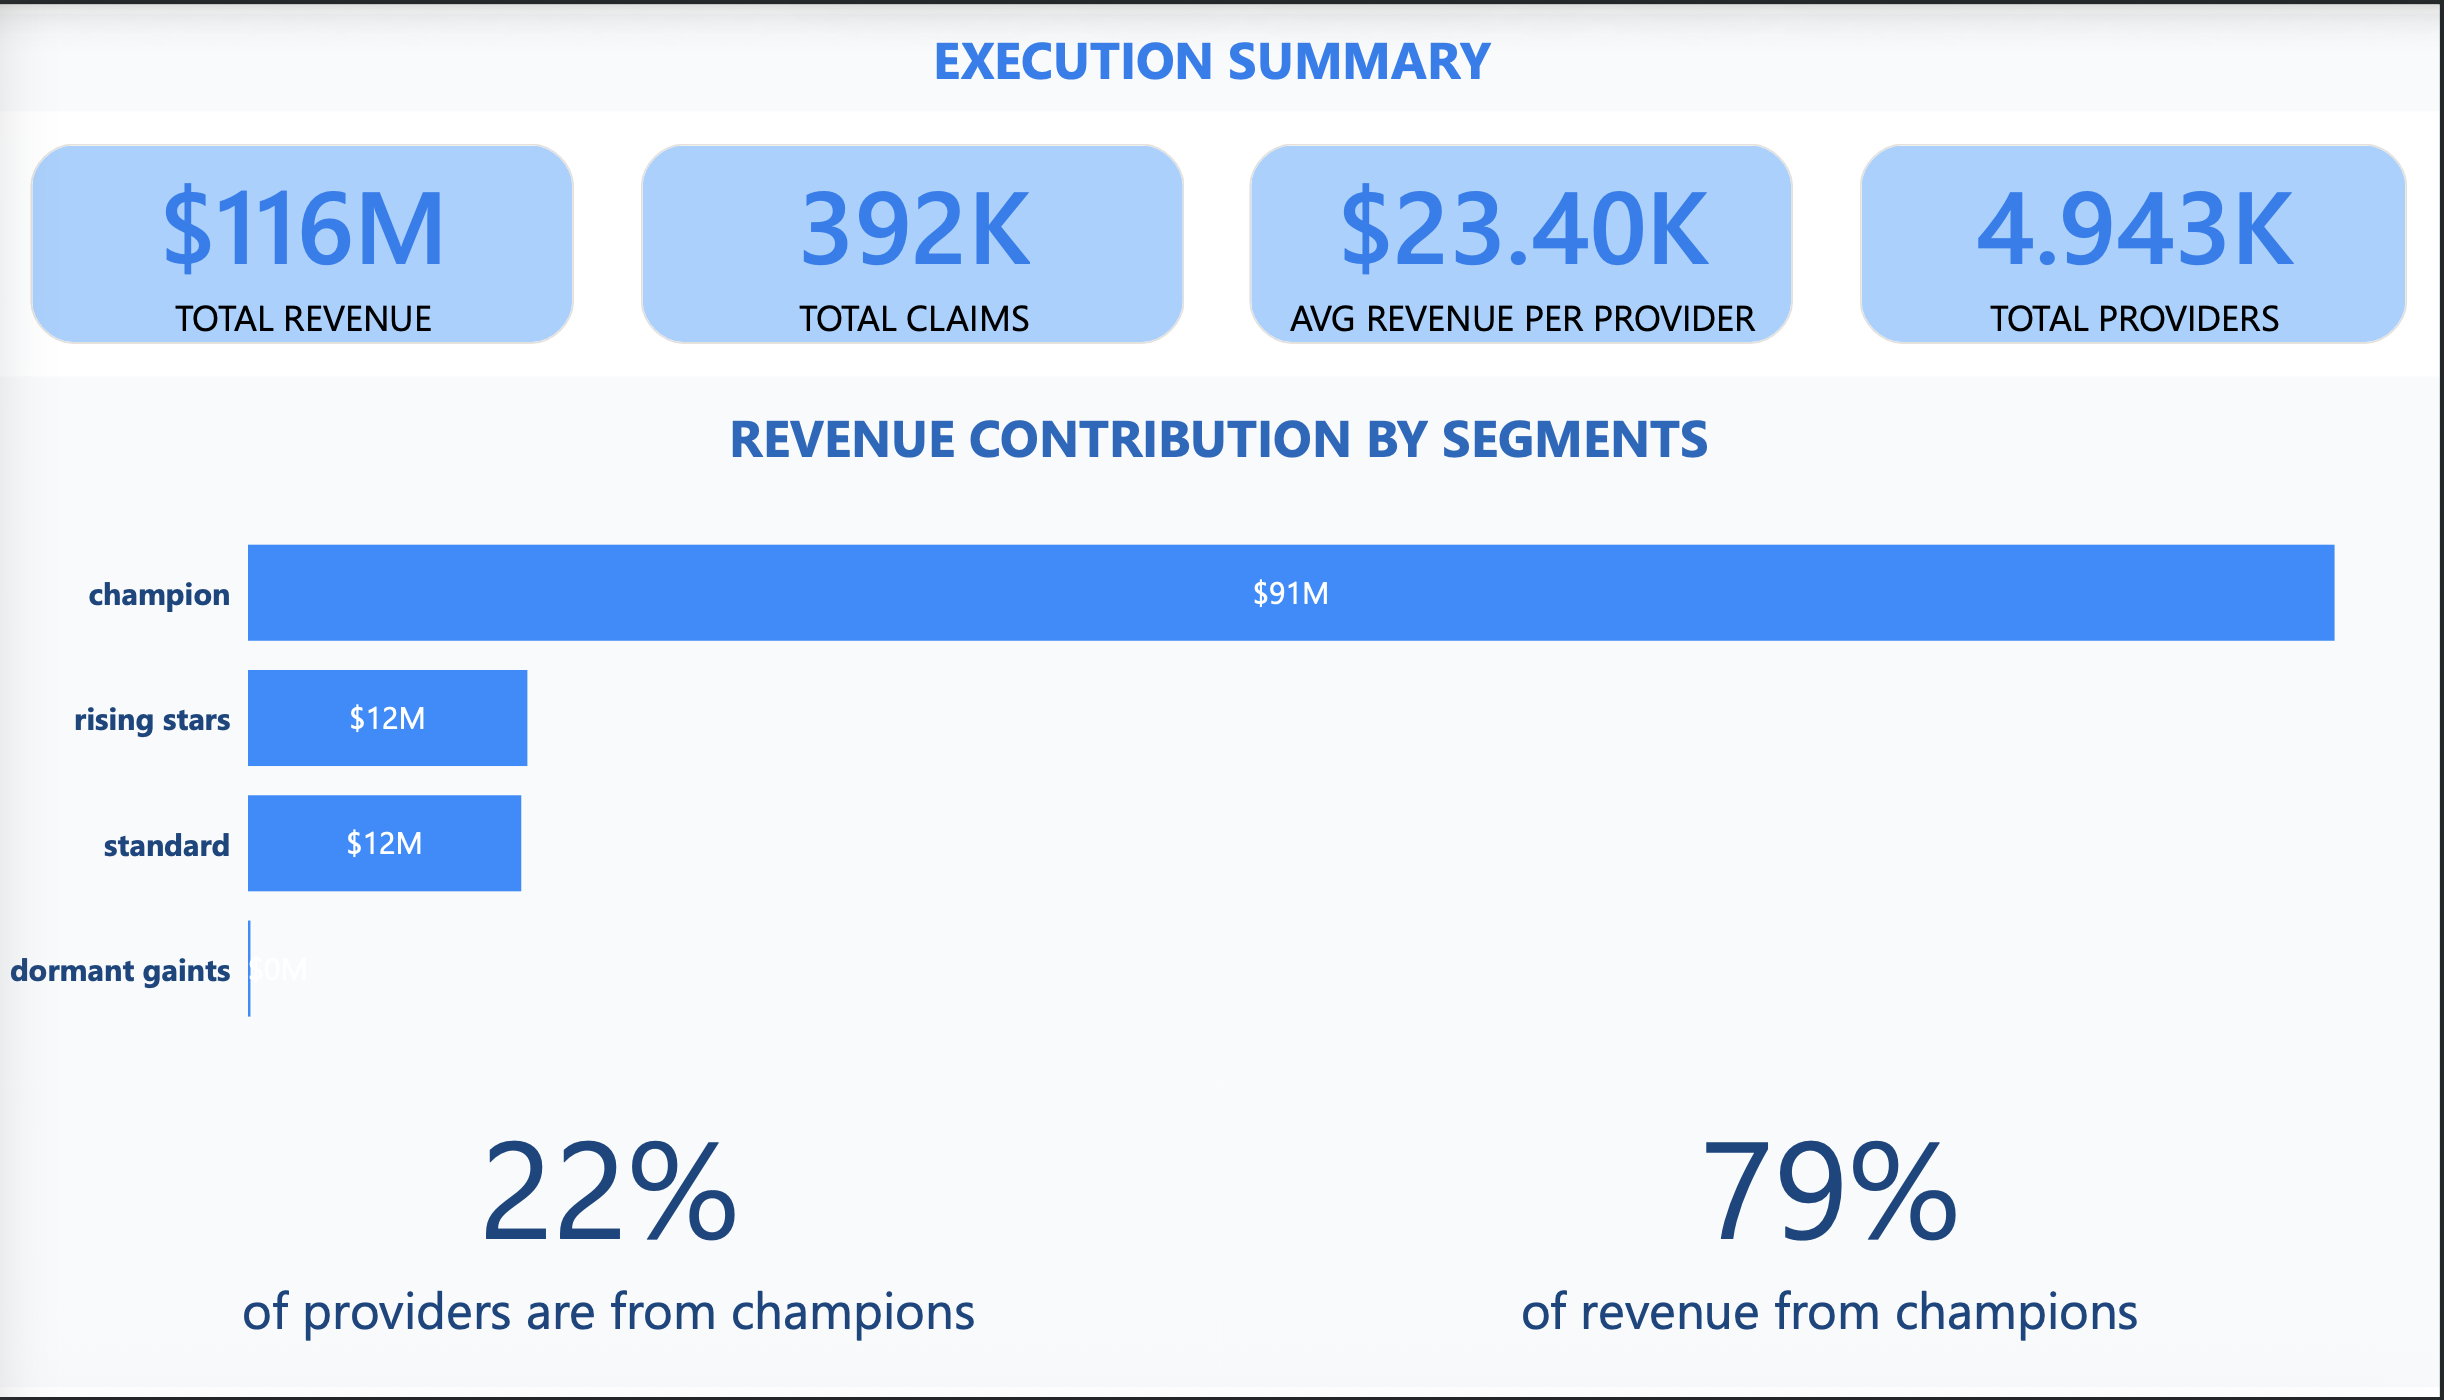

What the dashboard file says about the page in this screenshot:
{"tool":"powerbi","page":{"name":"EXECUTION SUMMARY","canvas":[1280,720],"ordinal":0},"visuals":[{"type":"textbox","box":[0,0,1280.3,50.8],"z":0},{"type":"cardVisual","fields":{"Data":["Sum(provider_segmentated_final.total_revenue)"]},"box":[0,50.8,319.7,139.3],"z":1000},{"type":"cardVisual","fields":{"Data":["Count(provider_segmentated_final.Provider)"]},"box":[958.8,51,321.6,139.2],"z":2000},{"type":"cardVisual","fields":{"Data":["Avg(provider_segmentated_final.total_revenue)"]},"box":[639.2,51,319.6,139.2],"z":3000},{"type":"cardVisual","fields":{"Data":["Sum(provider_segmentated_final.total_claim)"]},"box":[319.6,51,319.6,139.2],"z":4000},{"type":"clusteredBarChart","title":"REVENUE CONTRIBUTION BY SEGMENTS","fields":{"Category":["provider_segmentated_final.segment"],"Y":["Sum(provider_segmentated_final.total_revenue)"]},"box":[0,190.2,1280.4,368.6],"z":5000},{"type":"textbox","box":[0,559,641,160.7],"z":6000},{"type":"textbox","box":[641.2,558.8,639.2,160.8],"z":7000}]}

Visuals, with their boxes in screenshot pixels (x1, y1, x2, y2), scaled from the page's 1280x720 canvas onto the 2444x1400 screenshot:
textbox: {"left": 0, "top": 0, "right": 2443, "bottom": 99}
cardVisual - Sum(provider_segmentated_final.total_revenue): {"left": 0, "top": 99, "right": 610, "bottom": 370}
cardVisual - Count(provider_segmentated_final.Provider): {"left": 1831, "top": 99, "right": 2443, "bottom": 370}
cardVisual - Avg(provider_segmentated_final.total_revenue): {"left": 1220, "top": 99, "right": 1831, "bottom": 370}
cardVisual - Sum(provider_segmentated_final.total_claim): {"left": 610, "top": 99, "right": 1220, "bottom": 370}
"REVENUE CONTRIBUTION BY SEGMENTS" clusteredBarChart: {"left": 0, "top": 370, "right": 2443, "bottom": 1087}
textbox: {"left": 0, "top": 1087, "right": 1224, "bottom": 1399}
textbox: {"left": 1224, "top": 1087, "right": 2443, "bottom": 1399}
